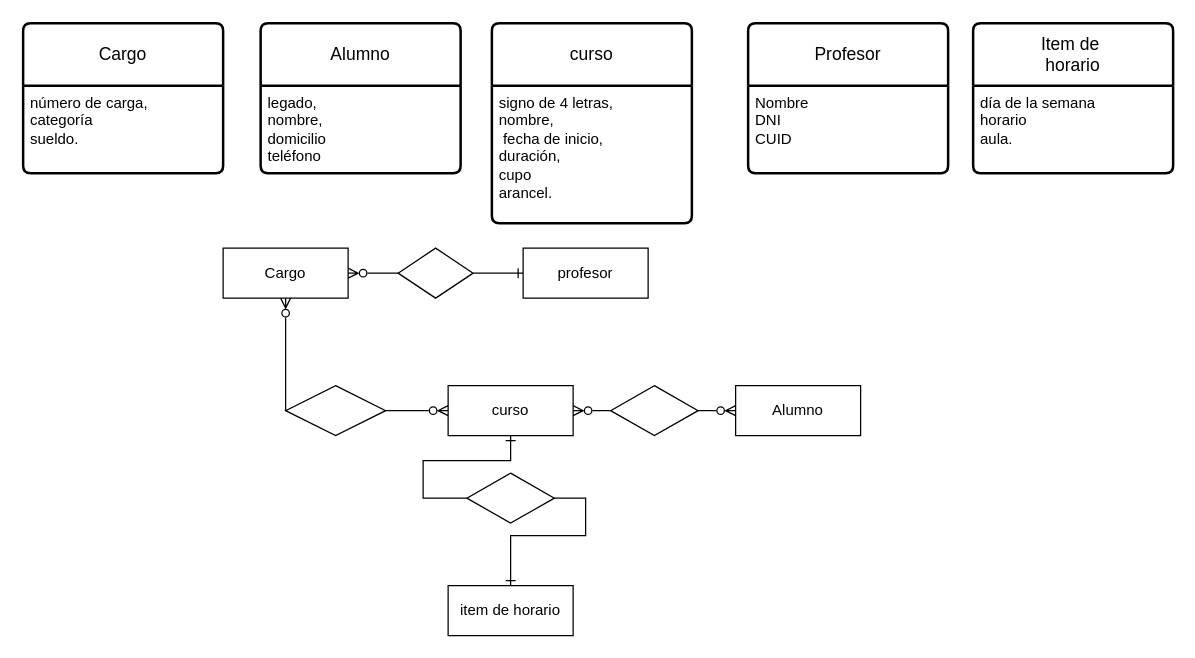
Image size: 1195x658. Some labels were removed from this diagram. The shapes that lost their labels are listed below. From the top down, each one's centre as x and y in pixels, then its label:
the point at 435,272: N:1
the point at 335,410: N;1
the point at 653,410: N:M
the point at 510,497: 1;N
